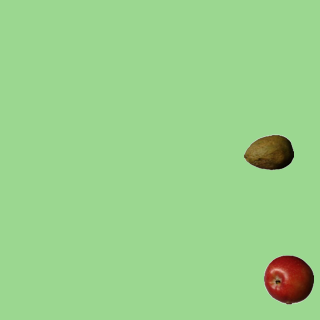Apple Braeburn: (263, 254, 313, 304)
Papaya: (243, 127, 293, 177)
